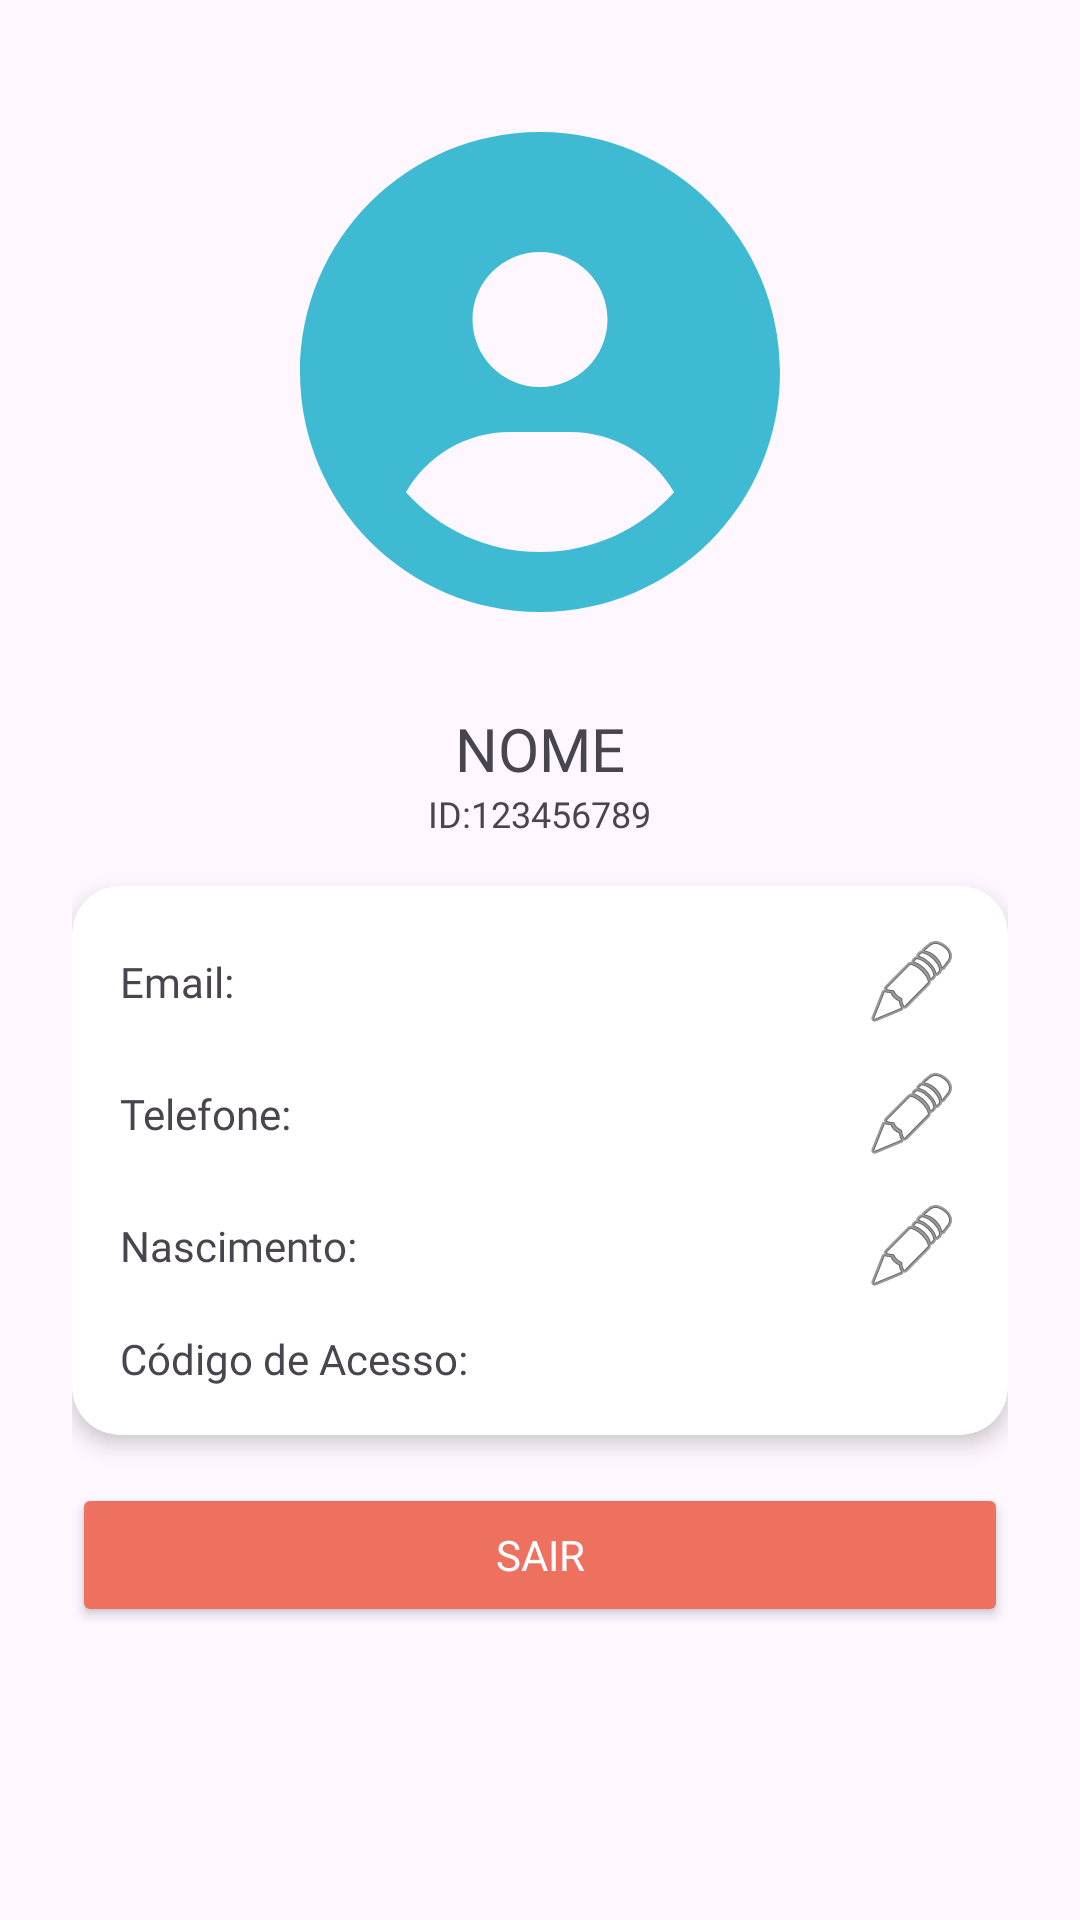

Locate icon controls on the screen. Image size 1080×1920, boxes as (x1, y1, x2, y2).
Botão Editar: (871, 941, 952, 1022), (871, 1073, 952, 1154), (871, 1205, 952, 1286)
